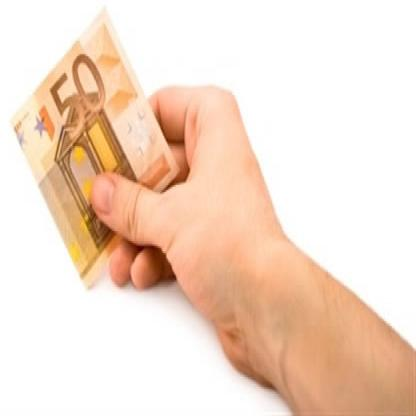billete: (6, 1, 179, 288)
